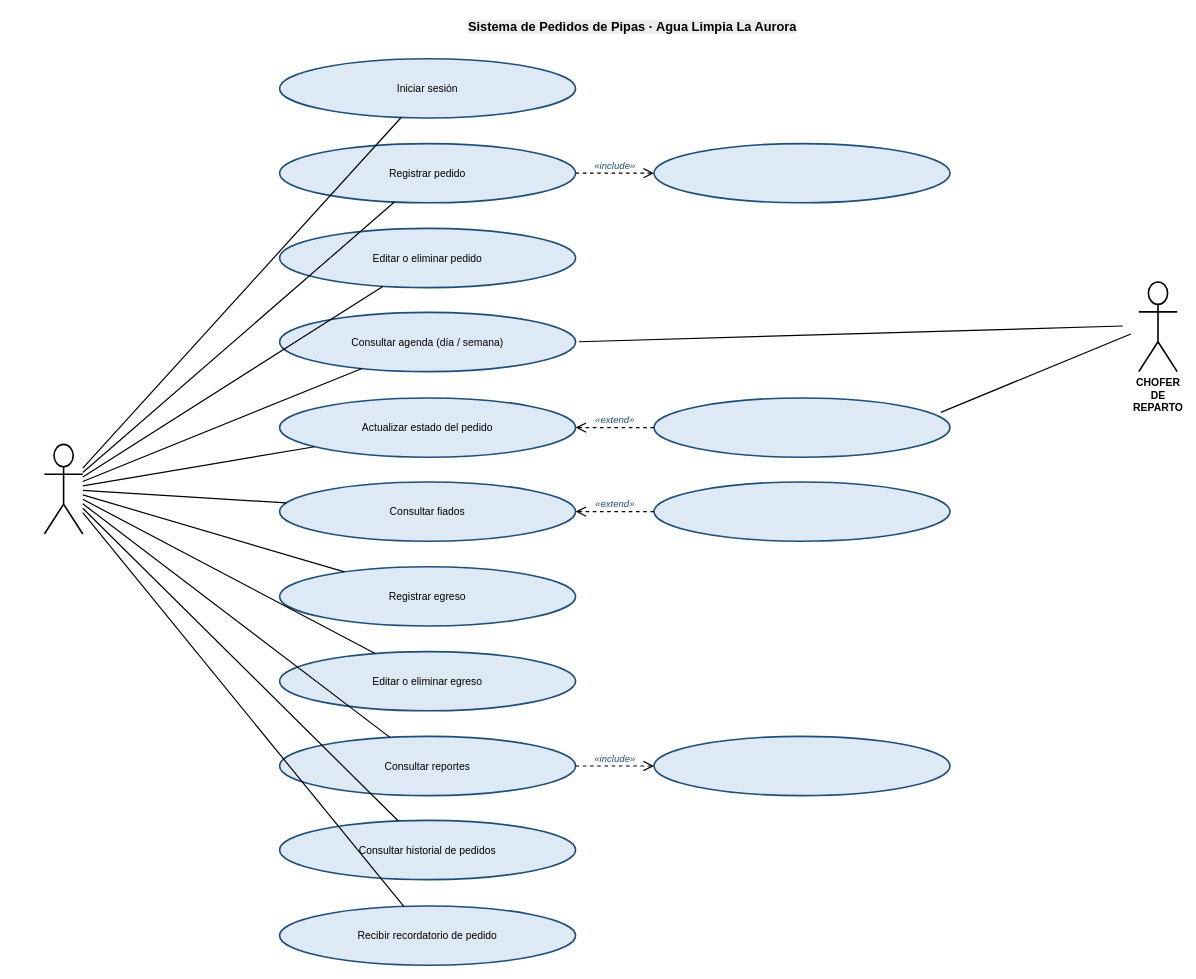
Image size: 1196x979. Some labels were removed from this diagram. Here are the shapes that lost their labels. From the top down, the centre of each, then its label:
At (x=801, y=172): "Verificar horario disponible".
At (x=801, y=427): "Cobrar pedido (efectivo / transferencia)".
At (x=63, y=488): "Administrador (dueño del negocio)".
At (x=801, y=511): "Liquidar fiado".
At (x=801, y=765): "Calcular corte diario y mensual".
